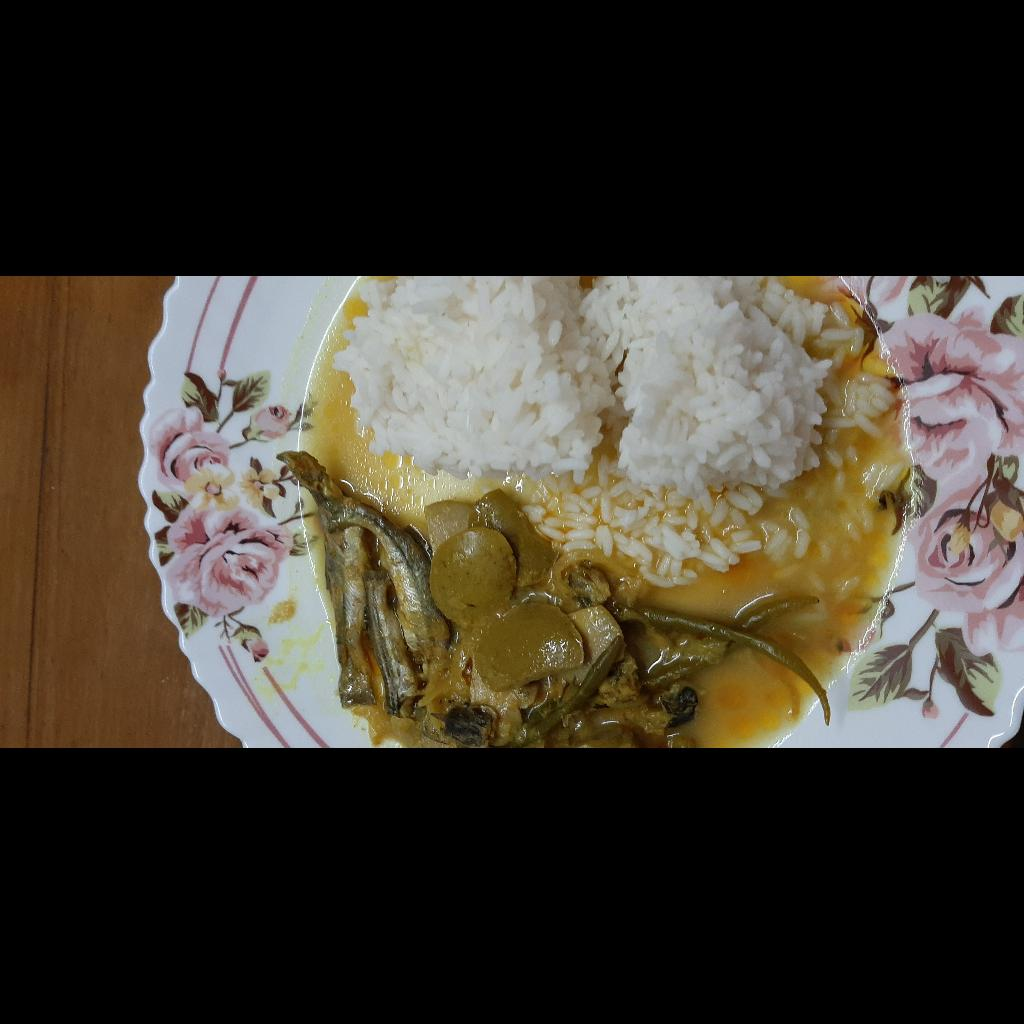fish: (1, 548, 302, 775)
rice: (162, 605, 472, 1024)
vegetable: (0, 699, 264, 1024)
